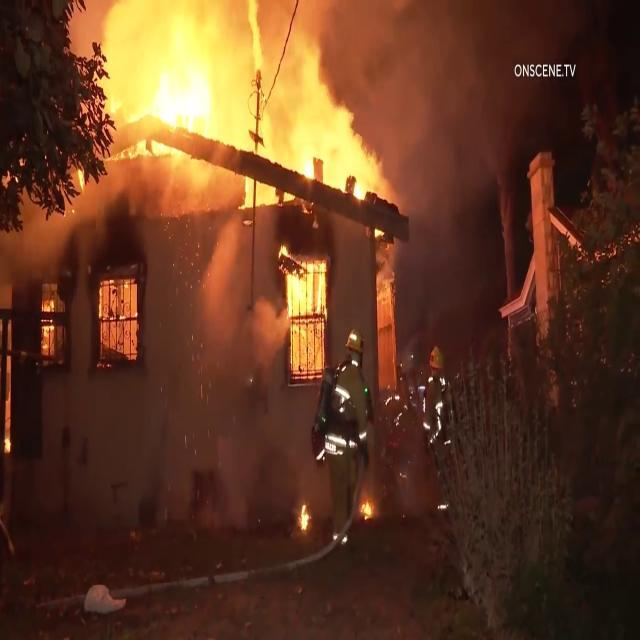Fire: (279, 150, 402, 244), (146, 74, 231, 191), (94, 271, 160, 378), (274, 245, 326, 376), (28, 281, 78, 382), (296, 498, 314, 541), (2, 423, 20, 453), (364, 496, 374, 526)
Smoke: (348, 0, 532, 150)
